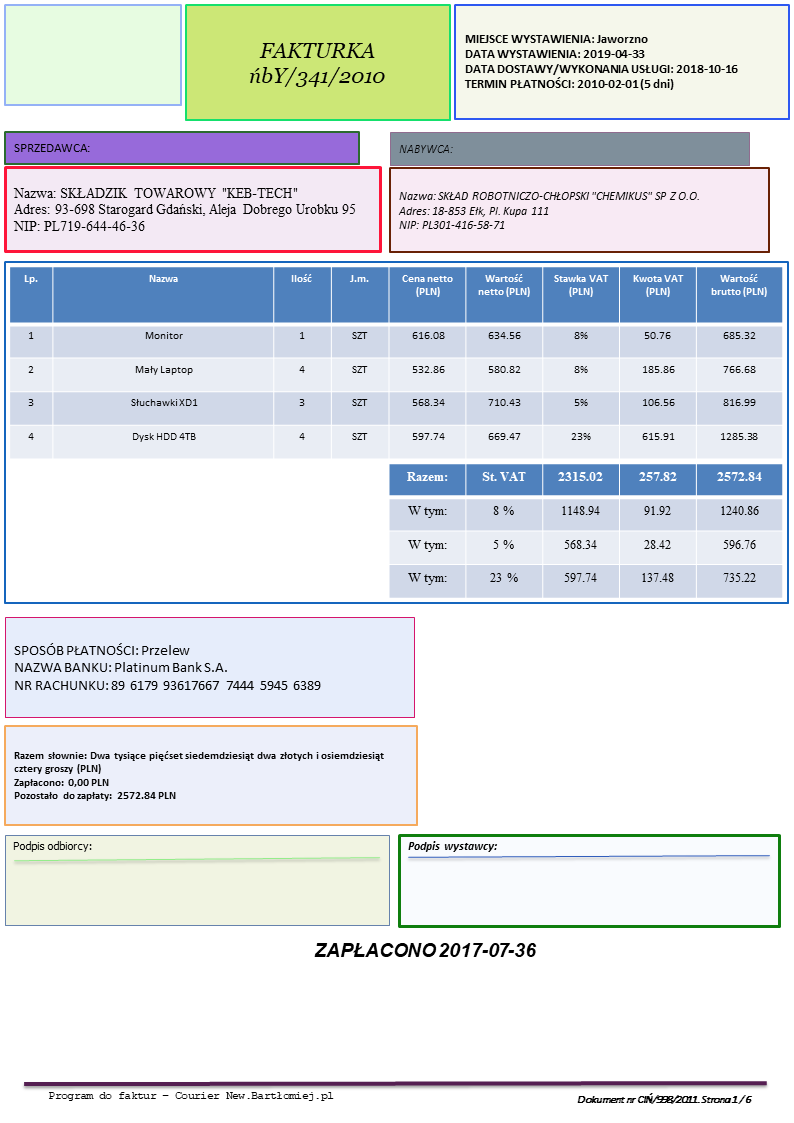Table: (9, 265, 785, 461), (387, 463, 782, 599)
TextBox: (12, 747, 388, 802), (10, 183, 359, 235), (11, 640, 323, 697), (462, 31, 740, 93), (396, 187, 702, 232), (246, 38, 388, 90), (311, 939, 538, 964), (46, 1088, 335, 1104), (575, 1090, 753, 1108), (405, 838, 501, 856), (11, 138, 92, 157), (11, 838, 94, 854), (397, 139, 455, 158)
